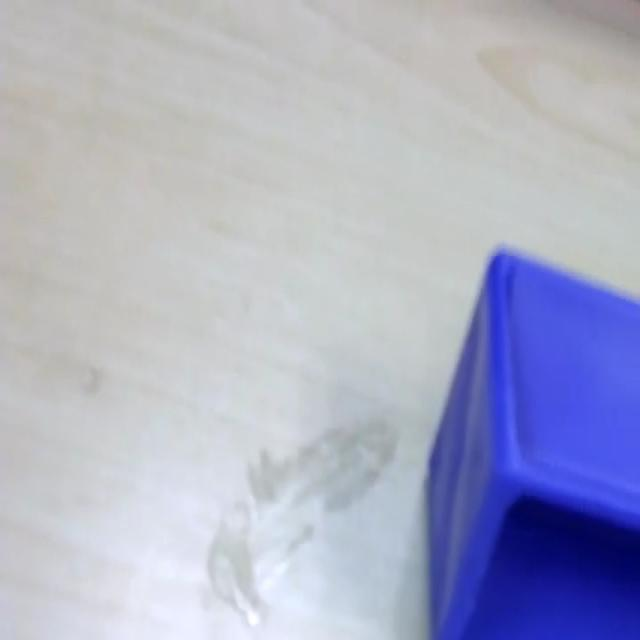blue_block: (424, 242, 638, 638)
